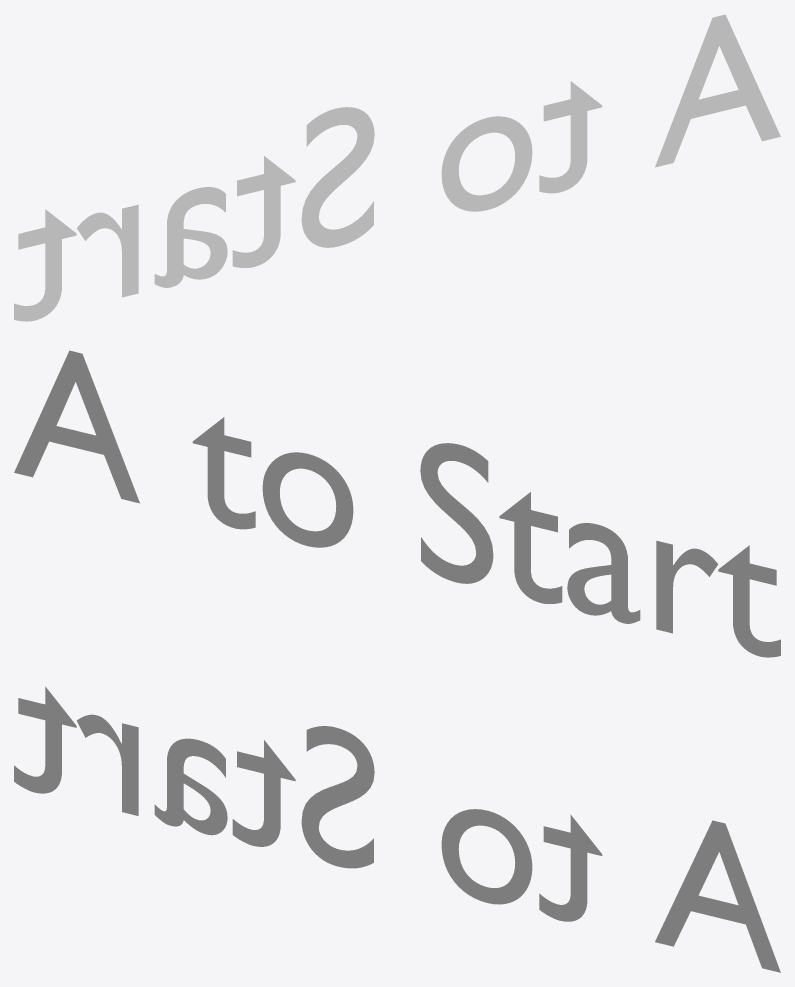
Rendered from titleUI.obj.
The picture shows the model from 3 angles, top to bottom: view 1: azimuth 30°, elevation 25°; view 2: azimuth 150°, elevation 25°; view 3: azimuth 330°, elevation 25°; orthographic projection.
Visible parts, largest first — view 1: テキスト; view 2: テキスト; view 3: テキスト.
Part boxes in pixels (<box>): テキスト: <box>14,14,780,321</box>; テキスト: <box>14,350,780,657</box>; テキスト: <box>14,686,780,972</box>.
Bounding box in the file's own units: 8.11 × 1.4 × 1e-06.
Materials: 1 (1 with a texture image).
